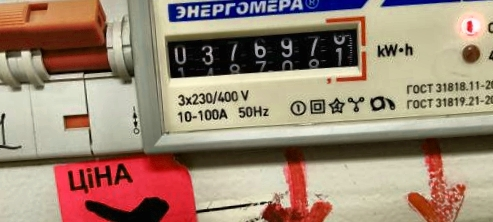0: (171, 42, 188, 65)
1: (333, 45, 343, 67)
3: (199, 43, 214, 65)
6: (251, 35, 267, 59)
7: (225, 38, 241, 62), (305, 31, 320, 55)
9: (278, 35, 293, 58)
screen: (154, 10, 373, 99)
